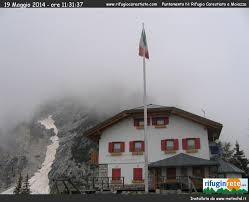Flag: (136, 26, 152, 60)
